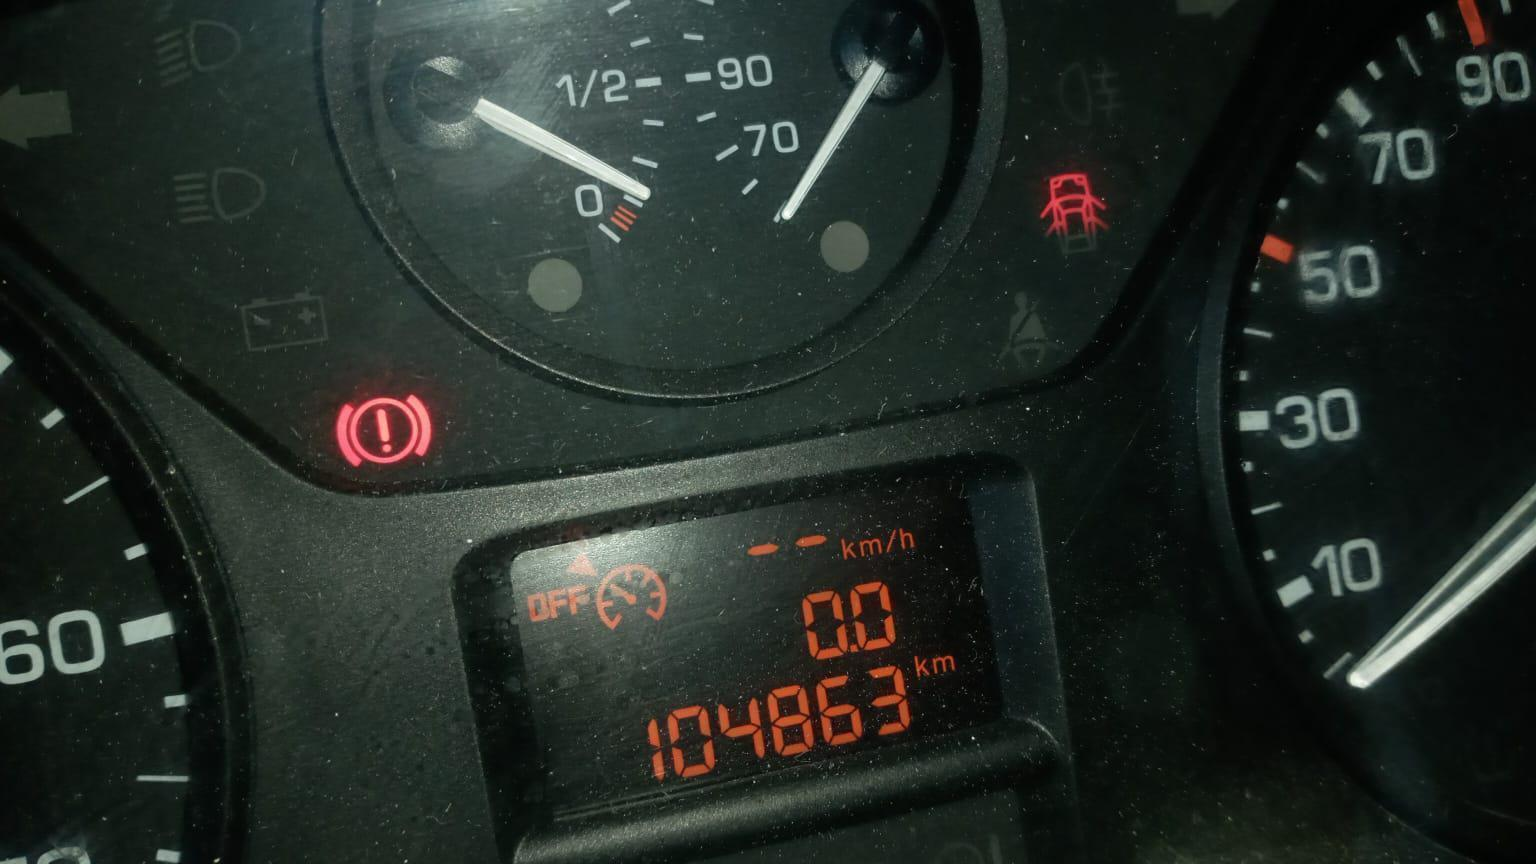,: (847, 644, 859, 654)
0: (666, 704, 716, 777), (800, 589, 848, 660), (849, 580, 897, 651)
1: (646, 717, 665, 781)
3: (867, 664, 911, 735)
4: (716, 696, 767, 759)
6: (815, 675, 863, 747)
8: (767, 684, 815, 755)
X: (525, 592, 548, 622), (567, 583, 585, 615), (548, 587, 565, 619), (932, 654, 956, 676), (858, 537, 883, 557), (911, 654, 929, 679), (898, 527, 914, 550), (840, 538, 855, 560), (885, 527, 897, 553)
odometer: (501, 466, 1016, 833)
